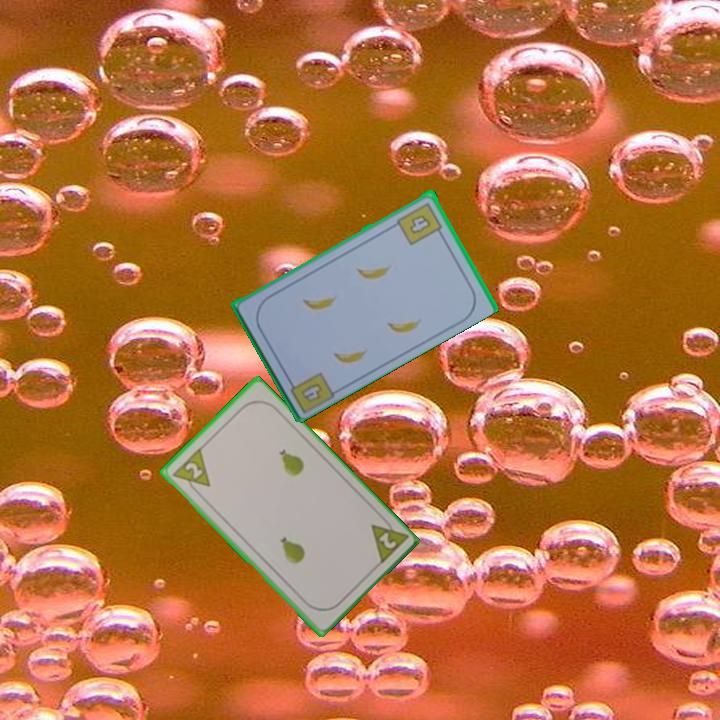2p: (168, 445, 213, 499), (367, 513, 410, 568)
4b: (394, 199, 446, 248), (283, 368, 337, 415)
